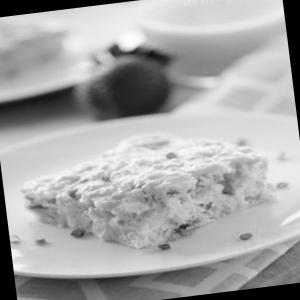omelet: (6, 108, 290, 262)
